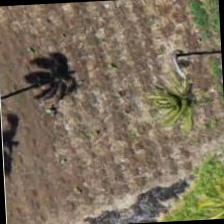Kelapa_Sawit: (132, 9, 222, 104)
